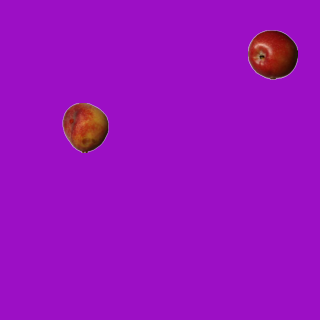Apple Braeburn: (247, 29, 297, 79)
Peach: (60, 102, 110, 152)
